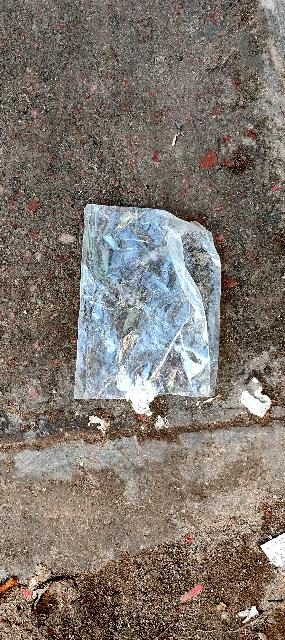polythene: (58, 196, 243, 426)
